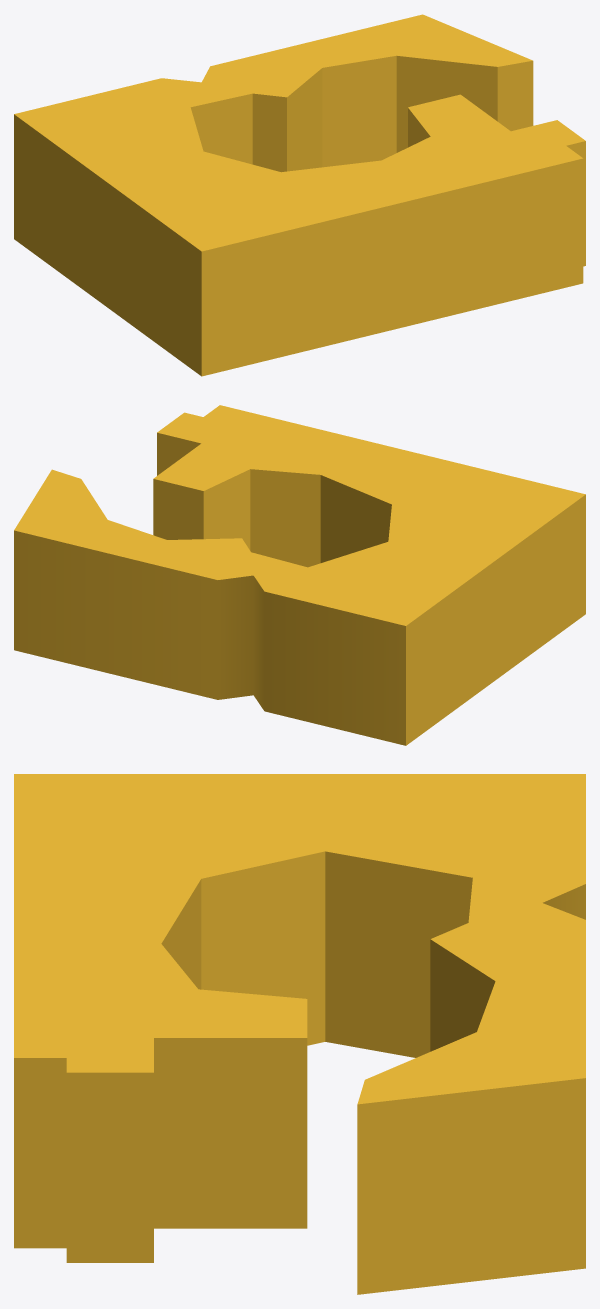
The model's file is Asset_KeyFragment5.fbx.
The picture shows the model from 3 angles, top to bottom: view 1: azimuth 30°, elevation 25°; view 2: azimuth 150°, elevation 25°; view 3: azimuth 270°, elevation 25°; orthographic projection. The views are drawn at different scales.
Visible parts, largest first — view 1: Asset_KeyFragment5; view 2: Asset_KeyFragment5; view 3: Asset_KeyFragment5.
Part boxes in pixels (x1,y1,x2,y2): Asset_KeyFragment5: (14,14,585,376); Asset_KeyFragment5: (14,405,585,745); Asset_KeyFragment5: (14,774,585,1294).
Bounding box in the file's own units: 22.96 × 6.17 × 16.8.
